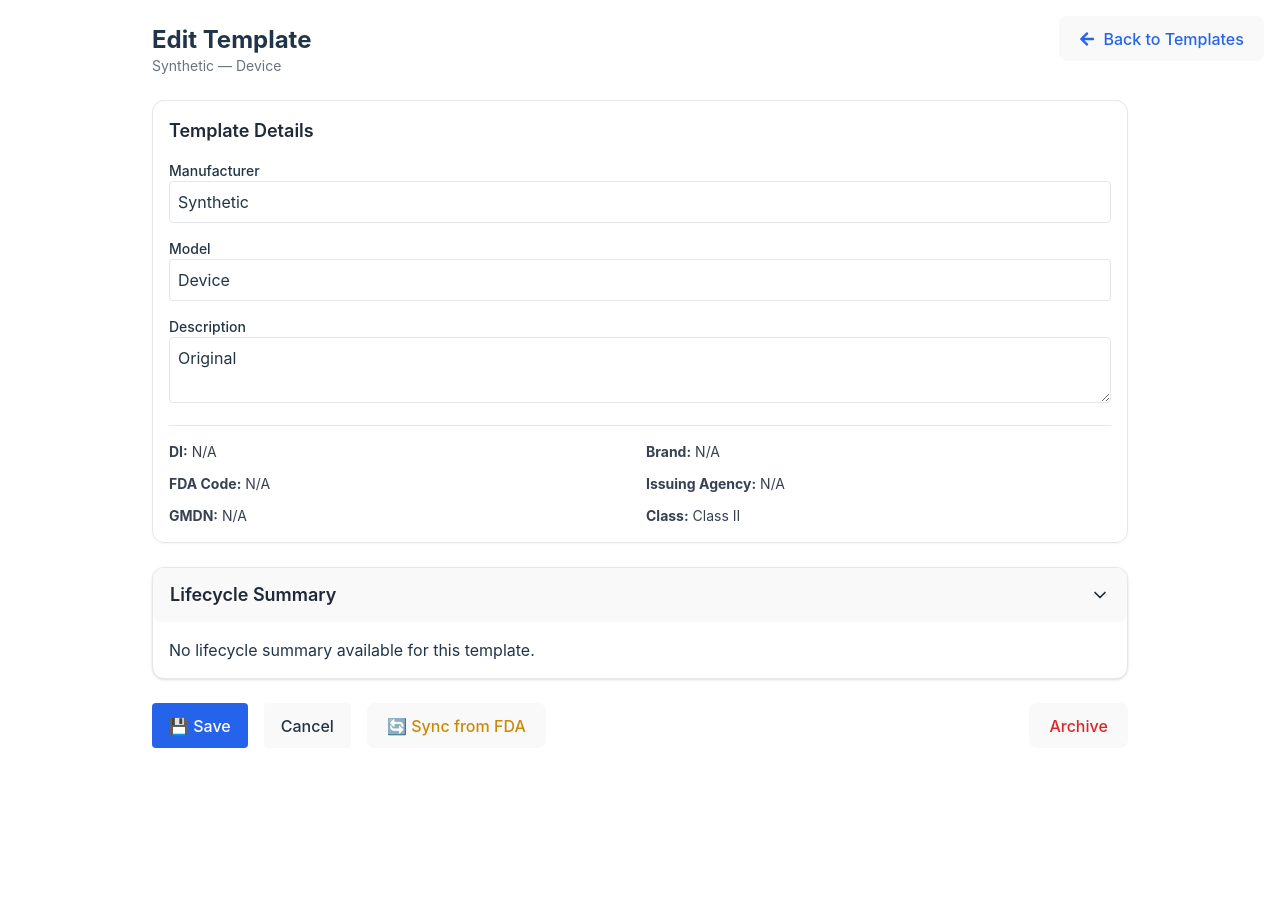
Scenario: provider sync unwraps the Template response and keeps the editor usable
Click the button "🔄 Sync from FDA" at (456, 726), box [367,703,546,748]
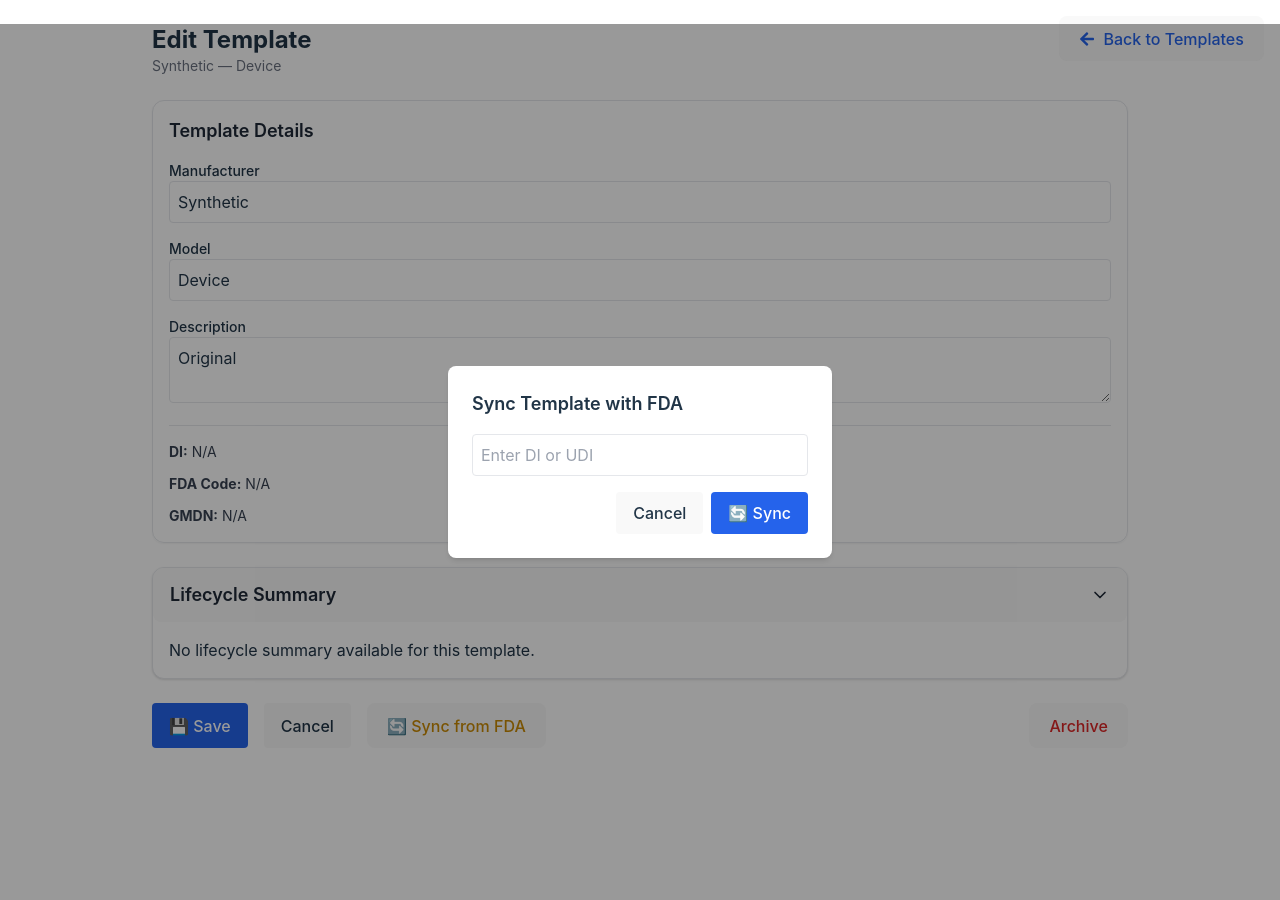
Type "00000000000001" into the field at (640, 455), box [472,434,808,476]
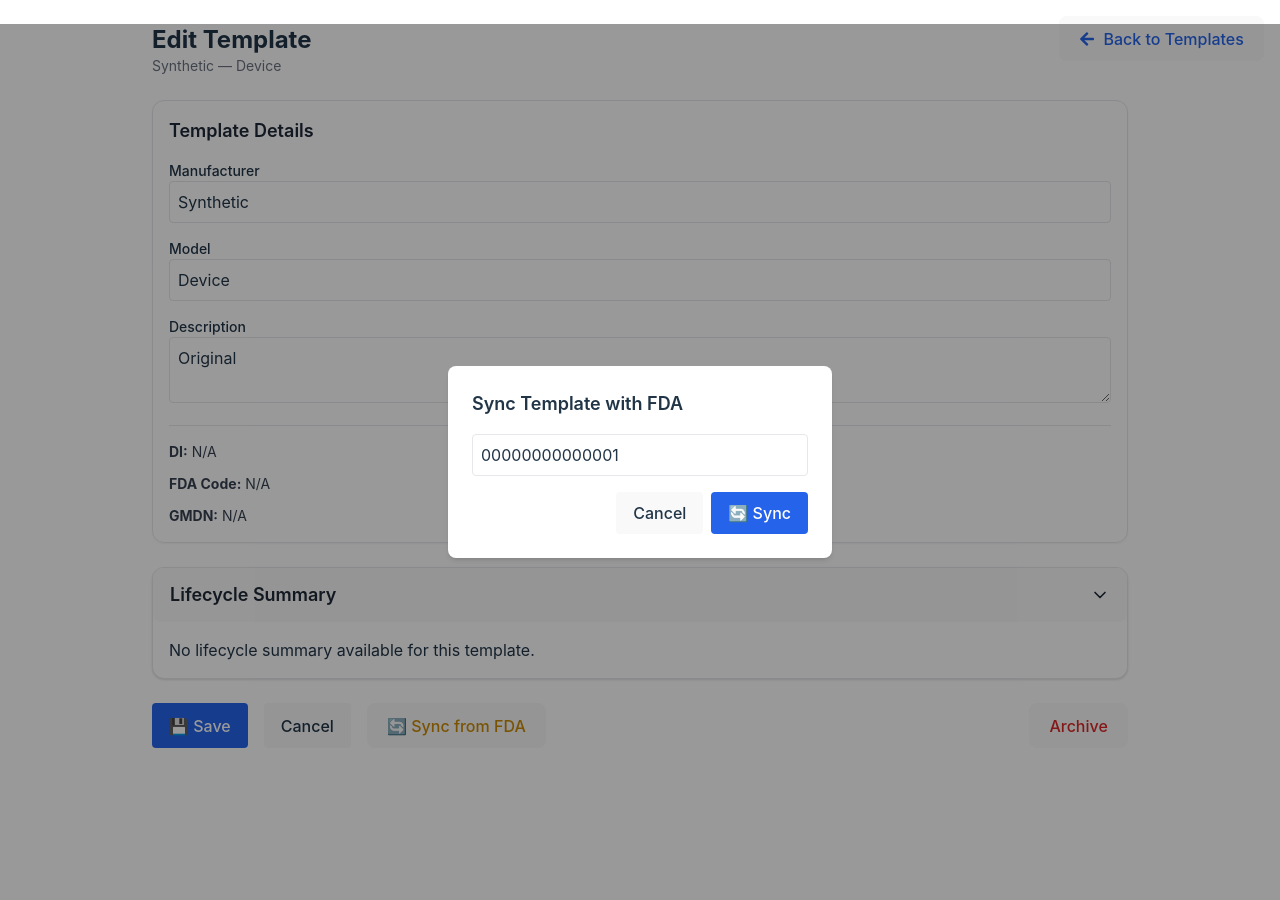
Click the button "🔄 Sync" at (760, 513), box [711,492,808,534]
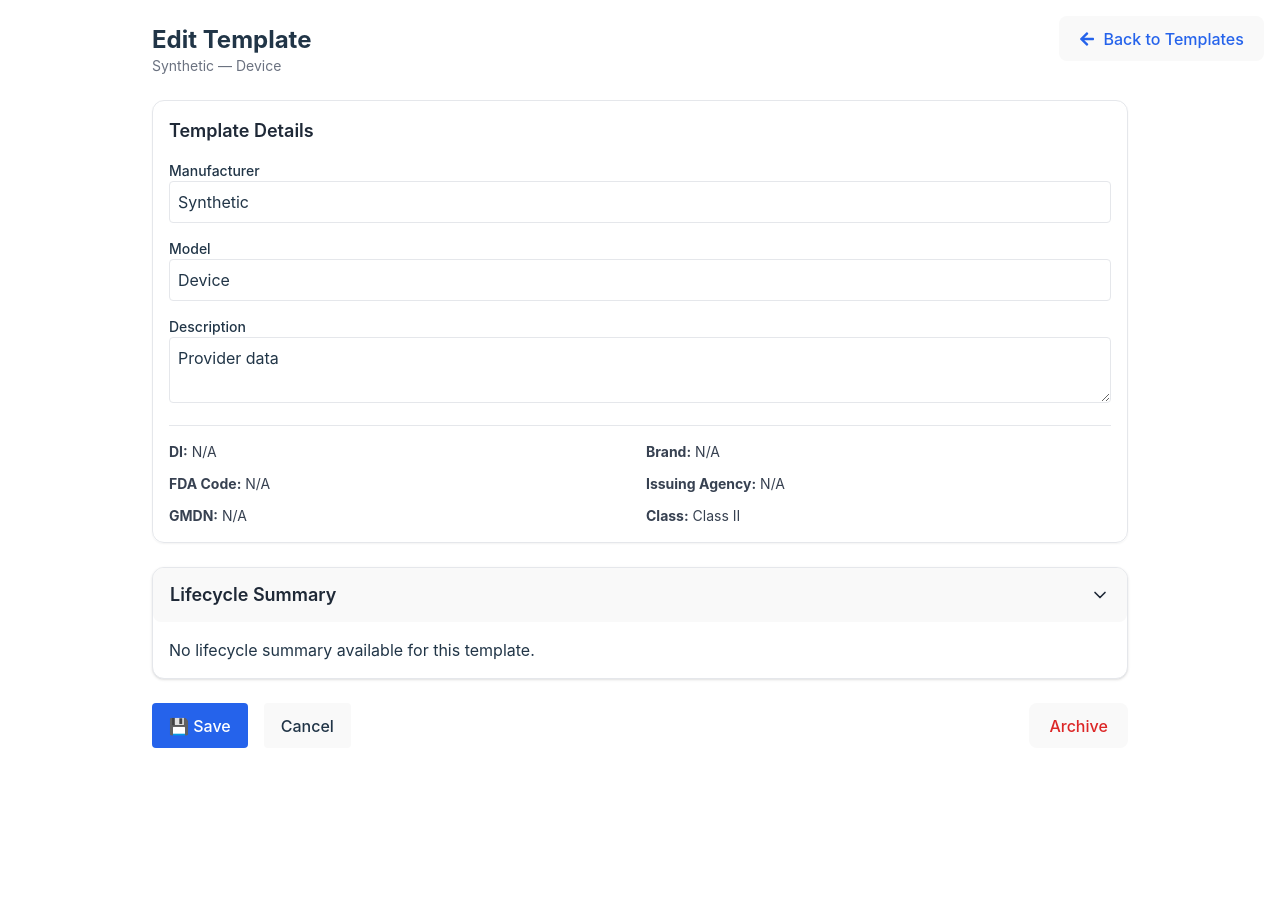
expect the text box showing "Provider data" is shown: met, box [169,337,1111,403]
